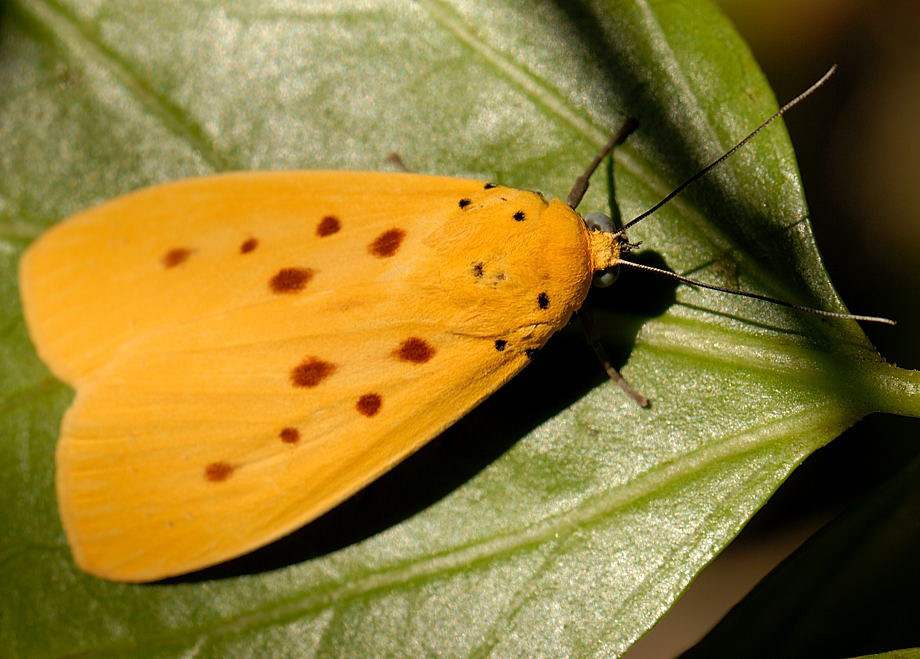Agape chloropyga: (18, 61, 900, 581)
moth: (20, 63, 902, 583)
